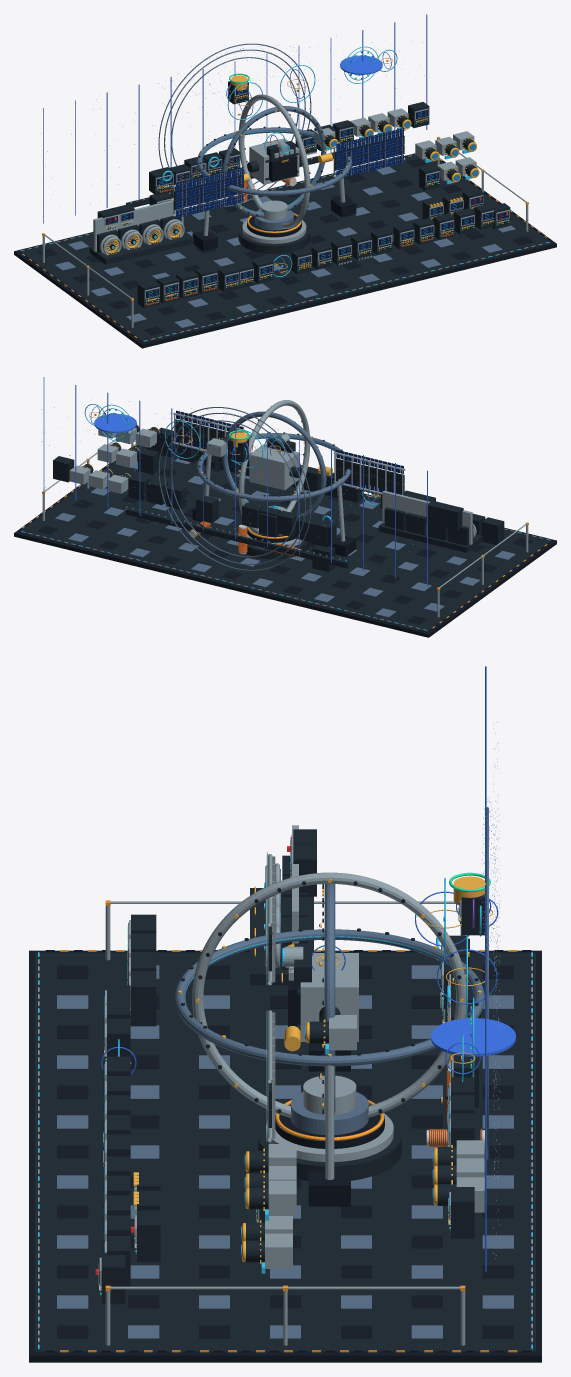
File: Level84_Complete_ArtKit_Showcase.fbx
3 views of the same model, one above another, from view 1: azimuth 30°, elevation 25°; view 2: azimuth 150°, elevation 25°; view 3: azimuth 270°, elevation 25° (orthographic). The views are drawn at different scales.
Visible parts, largest first — view 1: L84_CelestialDynamicsArenaBase, L84_PanoramicStarfieldSphere, L84_ReactionWheelClusterHousing, L84_RotationalTestRigPedestal, L84_StarboardSolarArrayWing, L84_PortSolarArrayWing, L84_ThreeAxisSpacecraftTestRig_Part_0005, L84_ThreeAxisSpacecraftTestRig_Part_0000, L84_ThreeAxisSpacecraftTestRig_Part_0010, L84_ThreeAxisSpacecraftTestRig, L84_SpacecraftAttitudeTestVehicle_Part_0000, L84_HolographicEarthReferenceSphere_Part_0000 (+22 smaller); view 2: L84_CelestialDynamicsArenaBase, L84_PanoramicStarfieldSphere, L84_PortSolarArrayWing, L84_ReactionWheelClusterHousing, L84_SpacecraftAttitudeTestVehicle_Part_0000, L84_OrbitalEphemerisDisplayRail, L84_StarboardSolarArrayWing, L84_ThreeAxisSpacecraftTestRig_Part_0000, L84_ThreeAxisSpacecraftTestRig_Part_0005, L84_ThreeAxisSpacecraftTestRig_Part_0010, L84_RotationalTestRigPedestal, L84_ThreeAxisSpacecraftTestRig (+30 smaller); view 3: L84_CelestialDynamicsArenaBase, L84_RotationalTestRigPedestal, L84_ThreeAxisSpacecraftTestRig_Part_0005, L84_ThreeAxisSpacecraftTestRig_Part_0000, L84_ThreeAxisSpacecraftTestRig, L84_SpacecraftAttitudeTestVehicle_Part_0000, L84_HolographicEarthReferenceSphere_Part_0000, L84_ReactionWheelClusterHousing, L84_PanoramicStarfieldSphere, L84_ThreeAxisSpacecraftTestRig_Part_0010, L84_StarboardSolarArrayWing, L84_SecondaryDiagnosticStarTracker (+16 smaller).
Part boxes in pixels (x1,y1,x2,y2): L84_CelestialDynamicsArenaBase: [14, 136, 556, 348]; L84_PanoramicStarfieldSphere: [40, 14, 427, 223]; L84_ReactionWheelClusterHousing: [89, 200, 193, 264]; L84_RotationalTestRigPedestal: [238, 200, 310, 253]; L84_StarboardSolarArrayWing: [318, 128, 405, 177]; L84_PortSolarArrayWing: [173, 167, 249, 218]; L84_ThreeAxisSpacecraftTestRig_Part_0005: [238, 94, 310, 228]; L84_ThreeAxisSpacecraftTestRig_Part_0000: [197, 127, 351, 195]; L84_ThreeAxisSpacecraftTestRig_Part_0010: [222, 106, 326, 217]; L84_ThreeAxisSpacecraftTestRig: [192, 169, 356, 251]; L84_SpacecraftAttitudeTestVehicle_Part_0000: [249, 138, 299, 184]; L84_HolographicEarthReferenceSphere_Part_0000: [340, 51, 382, 79]; L84_CelestialDynamicsArenaBase: [14, 438, 556, 637]; L84_PanoramicStarfieldSphere: [41, 377, 427, 586]; L84_PortSolarArrayWing: [318, 449, 405, 495]; L84_ReactionWheelClusterHousing: [378, 490, 482, 552]; L84_SpacecraftAttitudeTestVehicle_Part_0000: [249, 444, 299, 490]; L84_OrbitalEphemerisDisplayRail: [125, 506, 348, 568]; L84_StarboardSolarArrayWing: [173, 410, 244, 457]; L84_ThreeAxisSpacecraftTestRig_Part_0000: [197, 433, 350, 501]; L84_ThreeAxisSpacecraftTestRig_Part_0005: [238, 400, 310, 534]; L84_ThreeAxisSpacecraftTestRig_Part_0010: [222, 411, 326, 517]; L84_RotationalTestRigPedestal: [246, 506, 310, 559]; L84_ThreeAxisSpacecraftTestRig: [192, 454, 356, 556]; L84_CelestialDynamicsArenaBase: [29, 900, 541, 1362]; L84_RotationalTestRigPedestal: [258, 1075, 401, 1180]; L84_ThreeAxisSpacecraftTestRig_Part_0005: [192, 872, 466, 1117]; L84_ThreeAxisSpacecraftTestRig_Part_0000: [174, 929, 484, 1066]; L84_ThreeAxisSpacecraftTestRig: [308, 1043, 350, 1206]; L84_SpacecraftAttitudeTestVehicle_Part_0000: [300, 953, 358, 1041]; L84_HolographicEarthReferenceSphere_Part_0000: [431, 1008, 515, 1063]; L84_ReactionWheelClusterHousing: [250, 825, 313, 985]; L84_PanoramicStarfieldSphere: [485, 666, 500, 1271]; L84_ThreeAxisSpacecraftTestRig_Part_0010: [324, 884, 335, 1114]; L84_StarboardSolarArrayWing: [266, 1008, 300, 1143]; L84_SecondaryDiagnosticStarTracker: [244, 1180, 296, 1220].
Size of the model in its own units: 2700 by 1047 by 1445.
